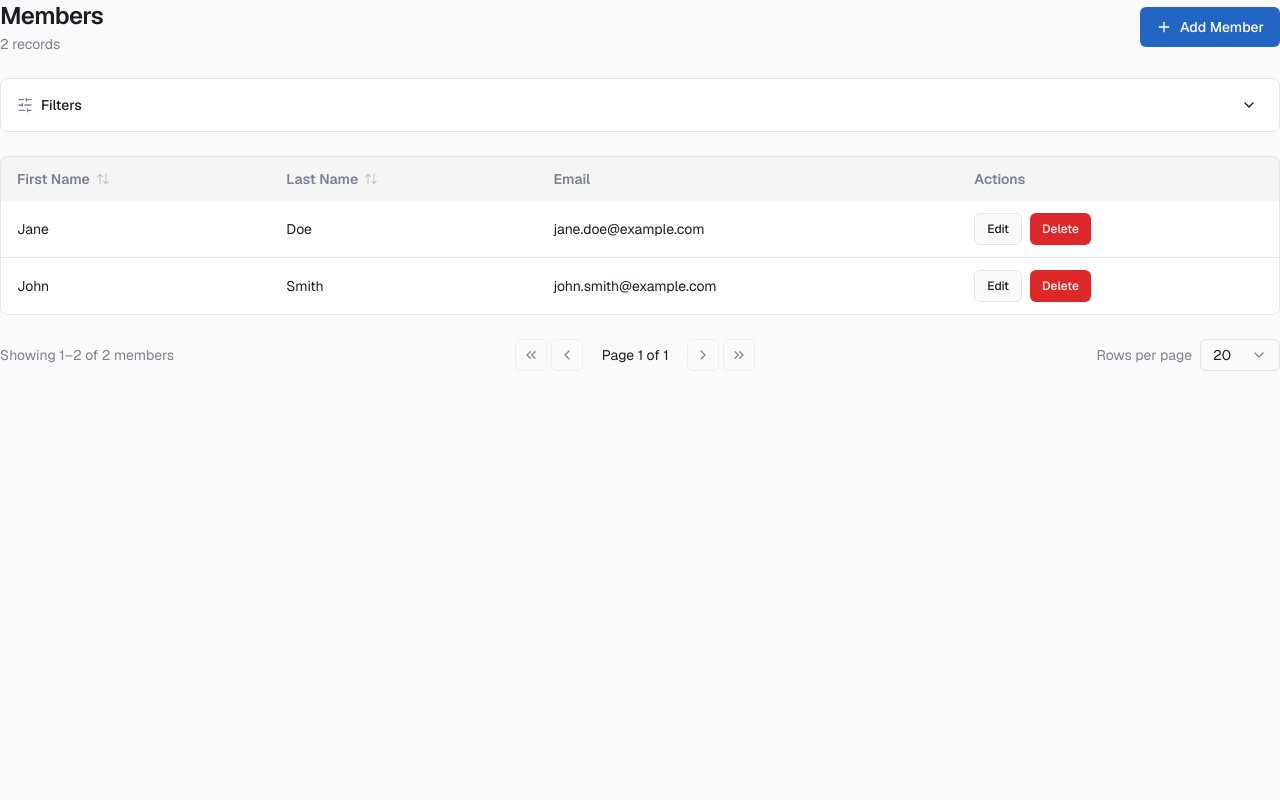
Test: MemberList › closes dialog when cancel is clicked
Expected: the text "Jane" is shown, [1,201,270,258]
Click the button "Delete" in the row of "jane.doe@example.com".
click(1060, 229)  # box [1030,213,1091,245]
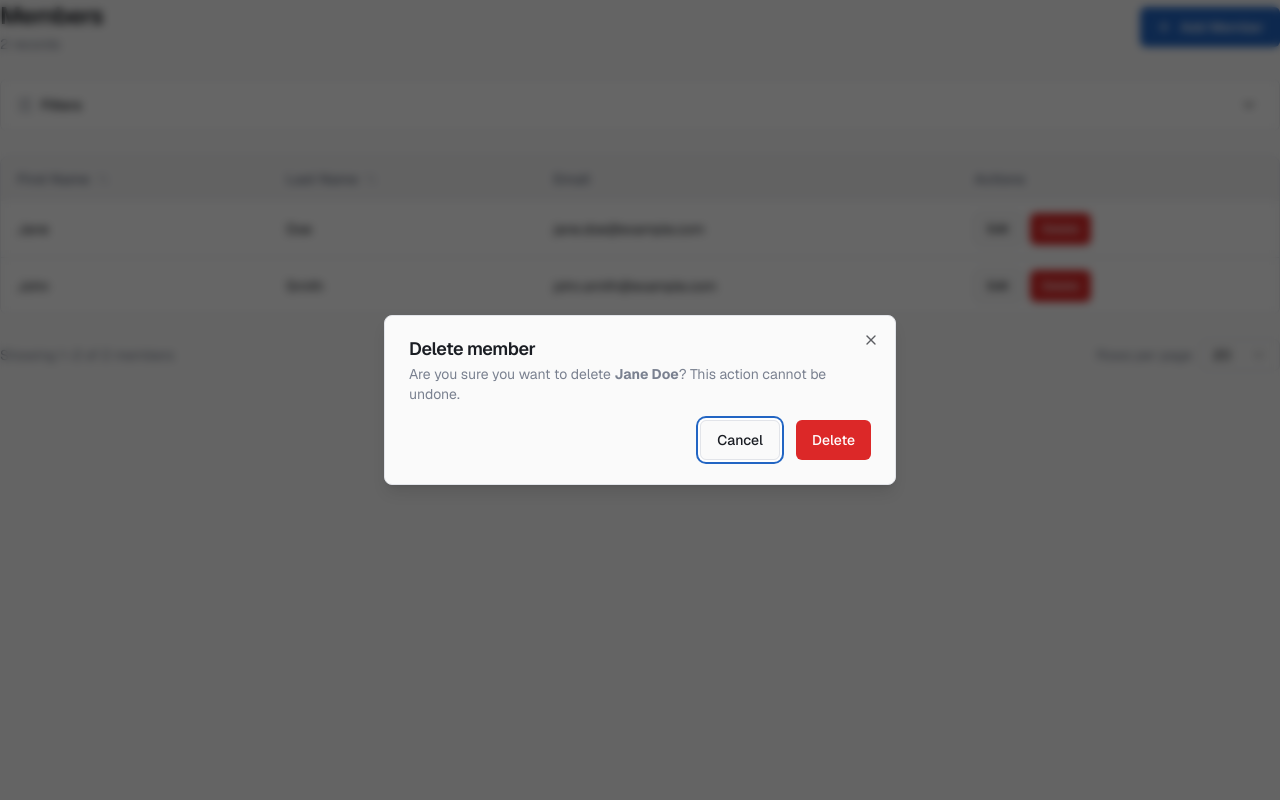
Expected: the dialog is shown, [384,315,896,485]
Click the button "Cancel".
click(740, 440)  # box [700,420,780,460]
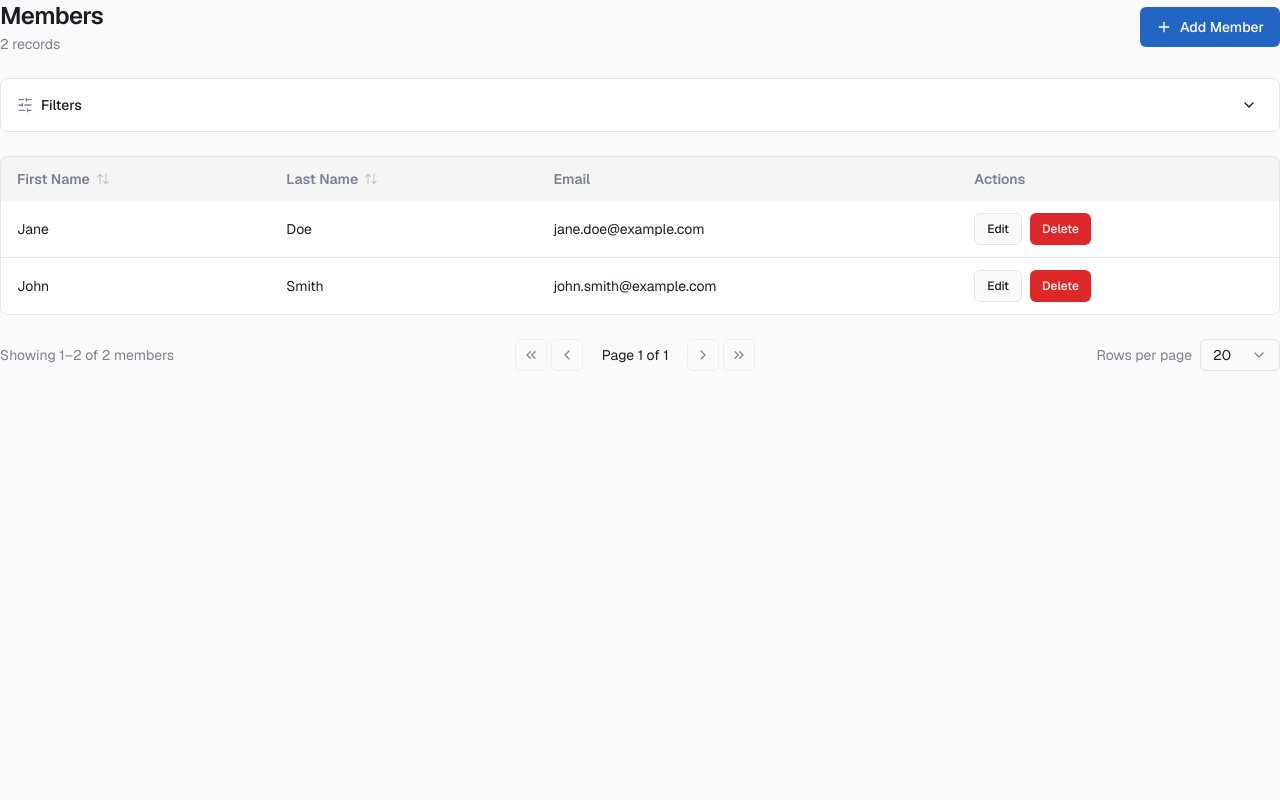
Expected: the dialog is gone
